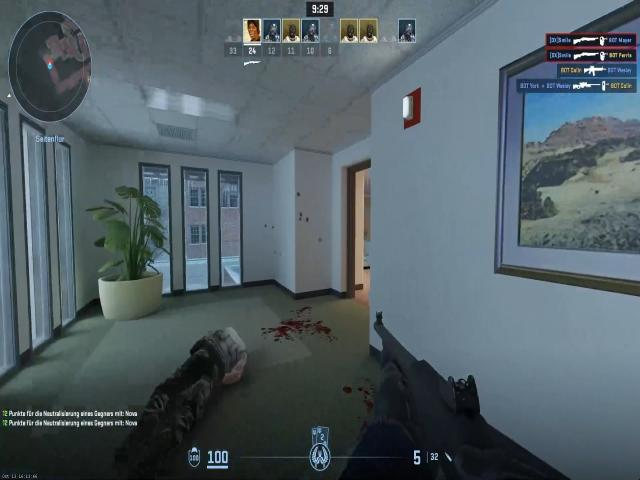Dead: (138, 315, 256, 444)
